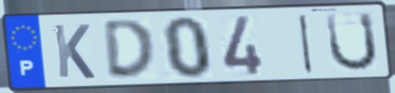0: (158, 15, 216, 81)
4: (220, 13, 266, 79)
D: (100, 18, 158, 83)
I: (297, 12, 316, 76)
K: (50, 22, 98, 81)
U: (324, 10, 381, 74)
